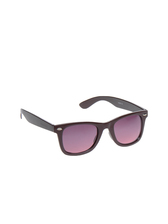glasses: (17, 96, 154, 154)
